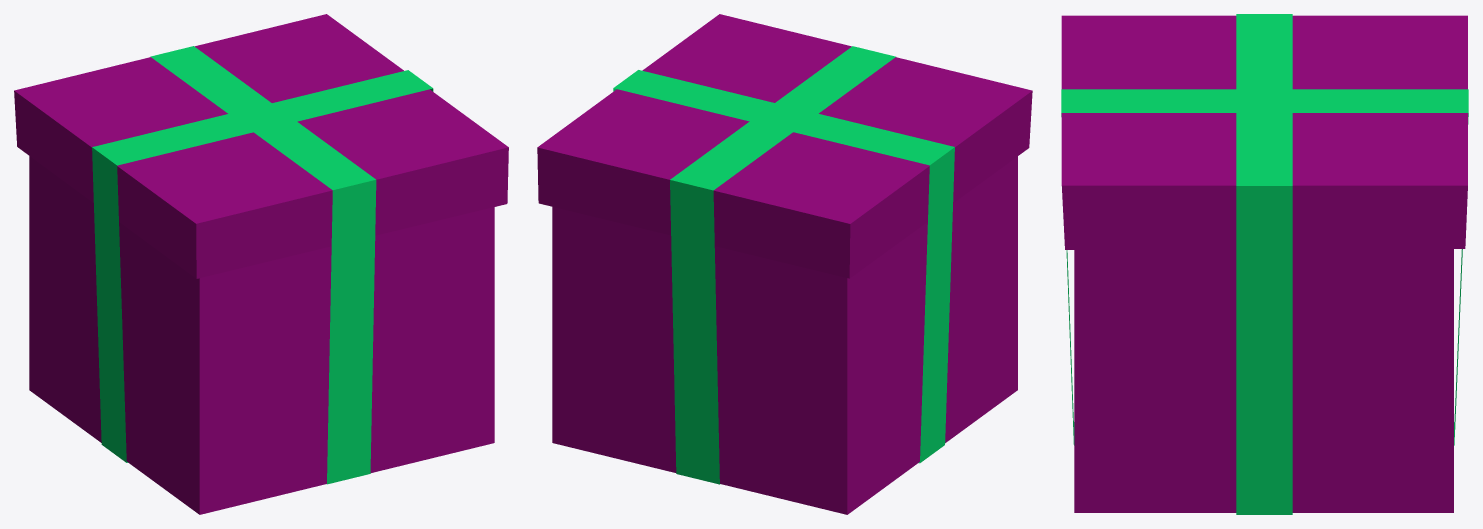
The model's file is Present (pink).fbx.
3 views of the same model, side by side, from view 1: azimuth 30°, elevation 25°; view 2: azimuth 150°, elevation 25°; view 3: azimuth 270°, elevation 25° (orthographic). The views are drawn at different scales.
Parts seen in each view (by area): view 1: Cube, Ribbon; view 2: Cube, Ribbon; view 3: Cube, Ribbon.
Boxes of the visible parts, box(x1,y1,x2,y2) form: Cube: box(14, 14, 508, 514); Ribbon: box(92, 46, 433, 484); Cube: box(537, 14, 1032, 514); Ribbon: box(613, 46, 954, 484); Cube: box(1061, 15, 1467, 512); Ribbon: box(1061, 14, 1468, 514).
Bounding box in the file's own units: 214 × 195 × 214.
